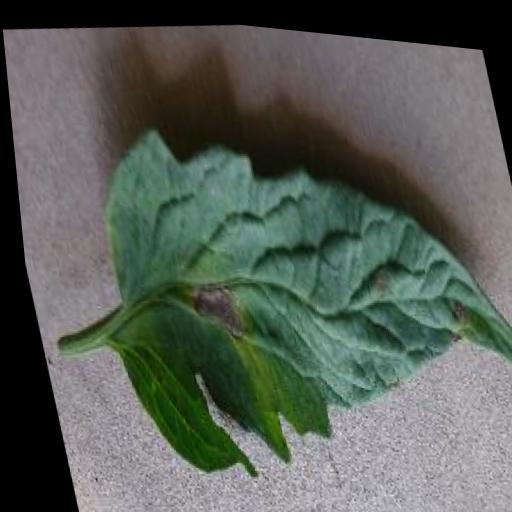Early Blight: (67, 73, 512, 511)
